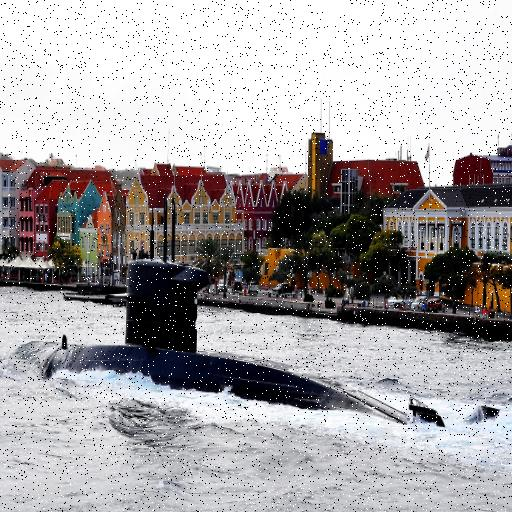submarine: (37, 153, 501, 433)
